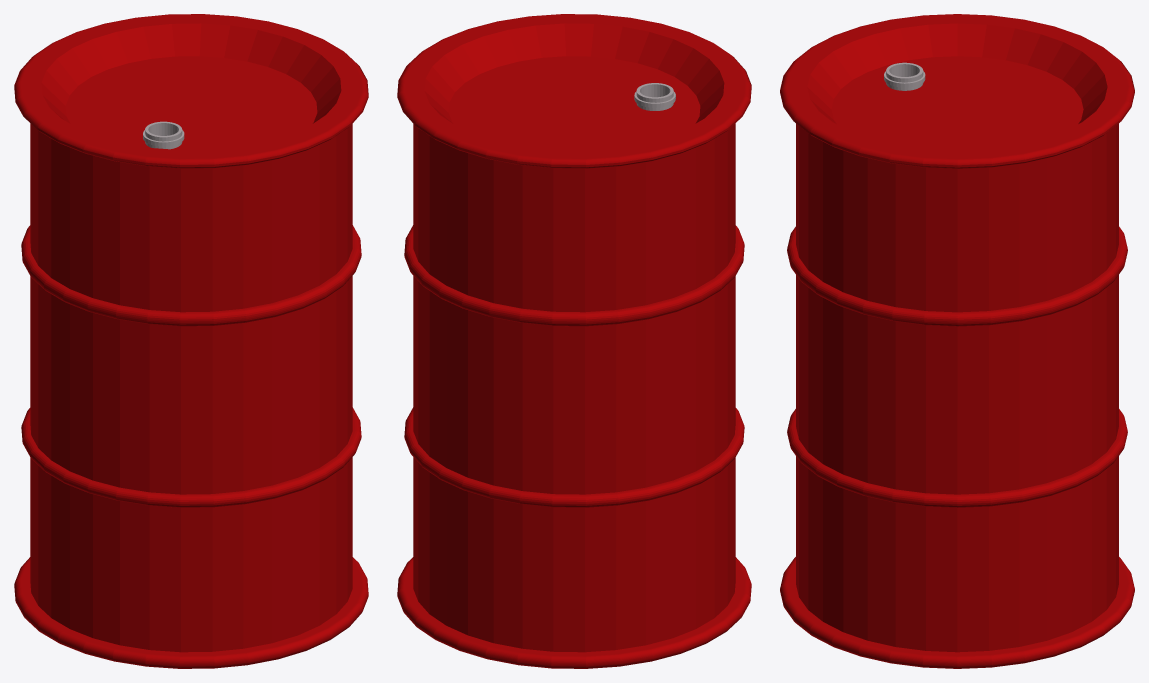
The model's file is Barrel.fbx.
3 views of the same model, side by side, from view 1: azimuth 30°, elevation 25°; view 2: azimuth 150°, elevation 25°; view 3: azimuth 270°, elevation 25° (orthographic).
Visible parts, largest first — view 1: Cylinder; view 2: Cylinder; view 3: Cylinder.
Part boxes in pixels (box(x1,y1,x2,y2)): Cylinder: box(14, 14, 368, 668); Cylinder: box(397, 14, 751, 668); Cylinder: box(780, 14, 1134, 668).
Bounding box in the file's own units: 220 × 348 × 220.
